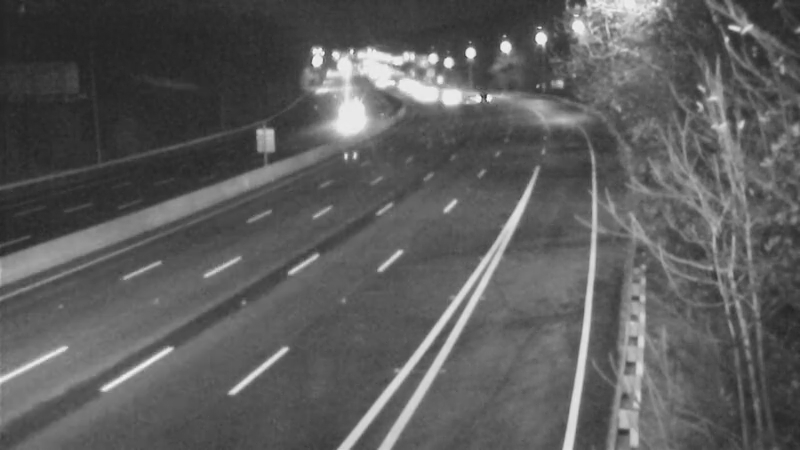vehicle: (455, 72, 505, 122), (424, 71, 474, 121), (399, 69, 449, 119), (324, 88, 374, 138)
